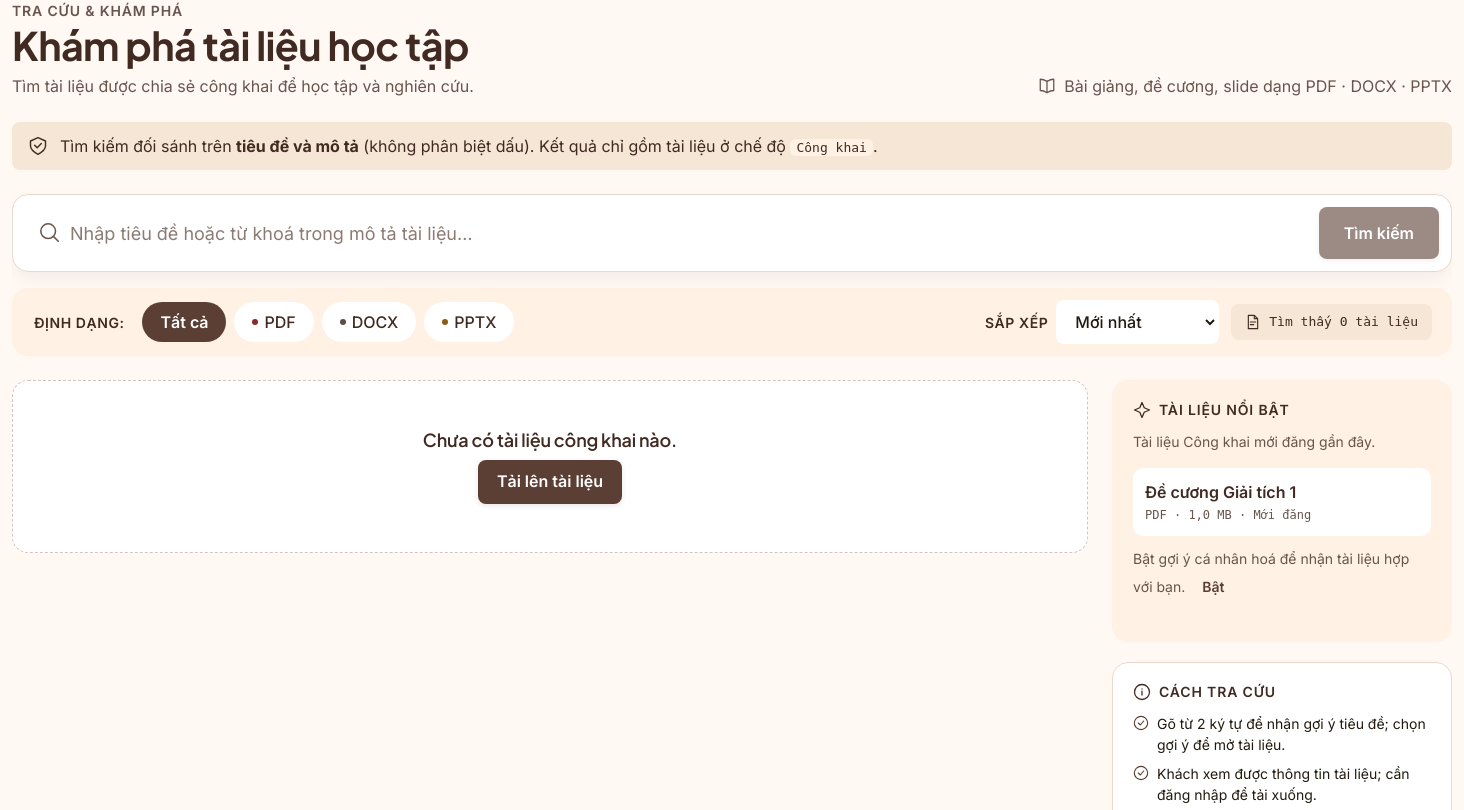
Test case: recommendation home privacy controls › keeps the current setting and recommendations when saving or clearing history fails
What coordinates should you click on to do the following:
click the button "Bật"
I would click on:
 (1213, 587)
Its box is top-left (1189, 569), bottom-right (1237, 605).
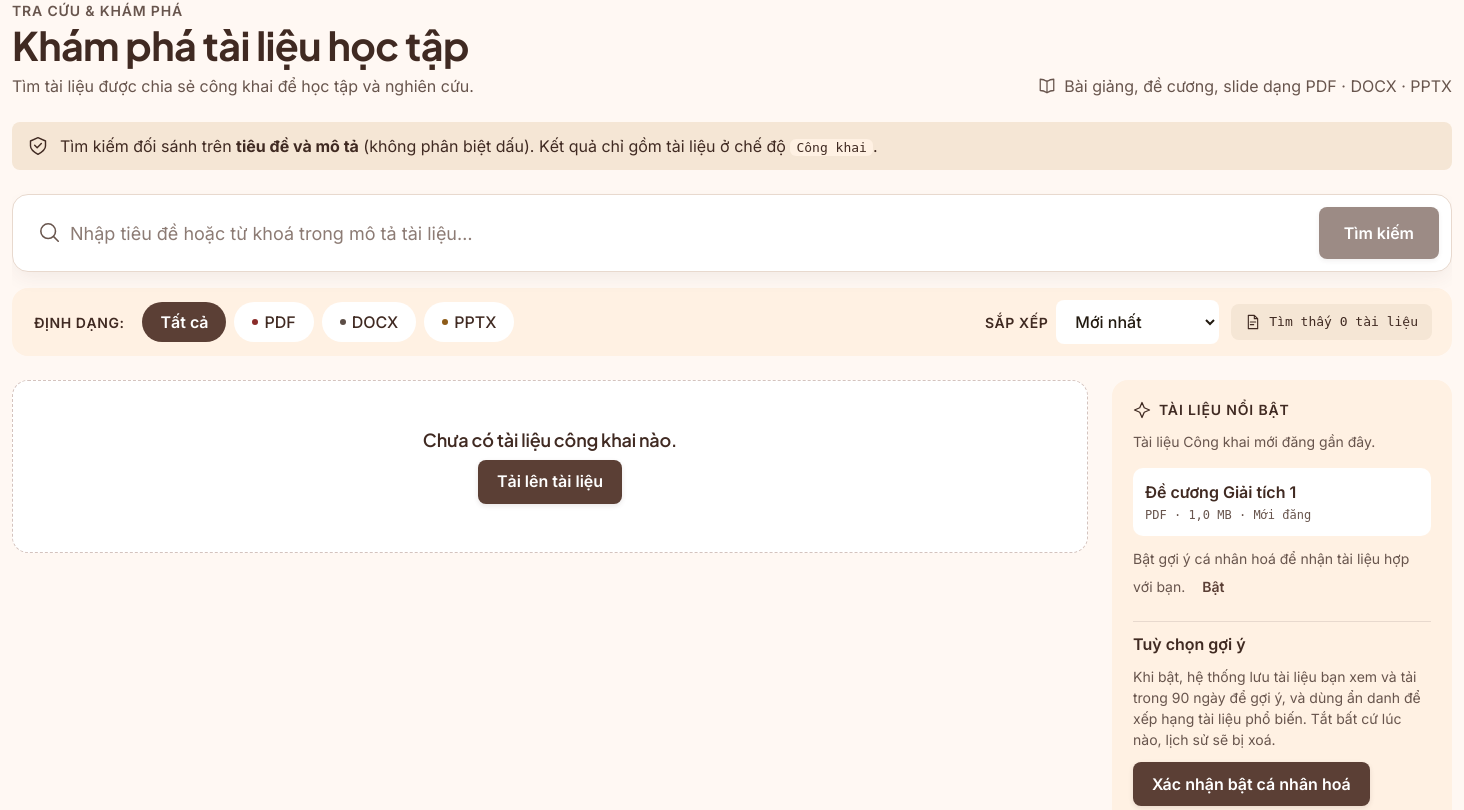
What coordinates should you click on to do the following:
click the switch
I would click on:
 (1251, 784)
Its box is top-left (1133, 762), bottom-right (1370, 806).
(page scrolled)
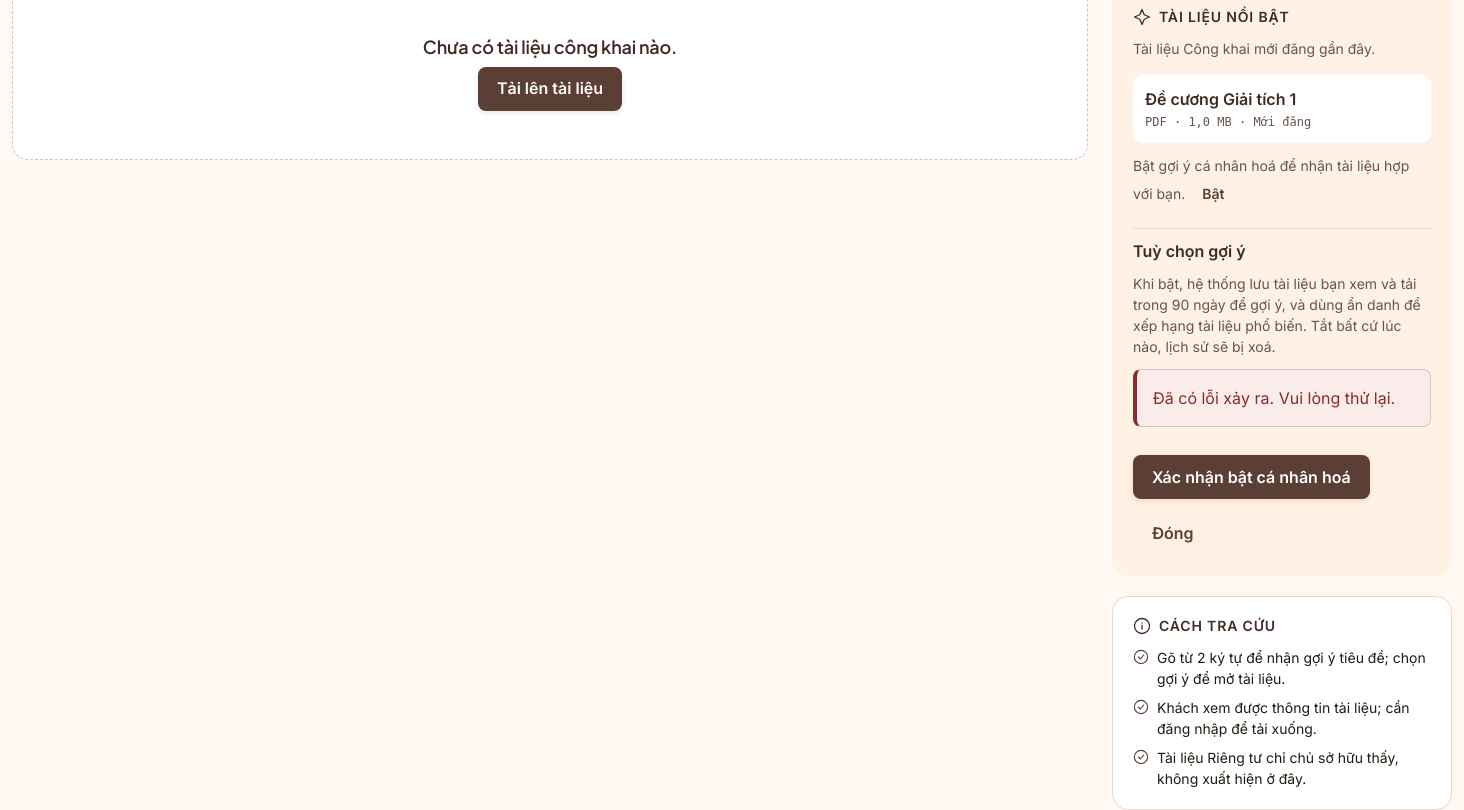
Result: the message "Đã có lỗi xảy ra. Vui lòng thử lại." is shown at top-left (1133, 369), bottom-right (1431, 427)
What coordinates should you click on to do the following:
click the switch
I would click on:
 (1251, 477)
Its box is top-left (1133, 455), bottom-right (1370, 499).
(page scrolled)
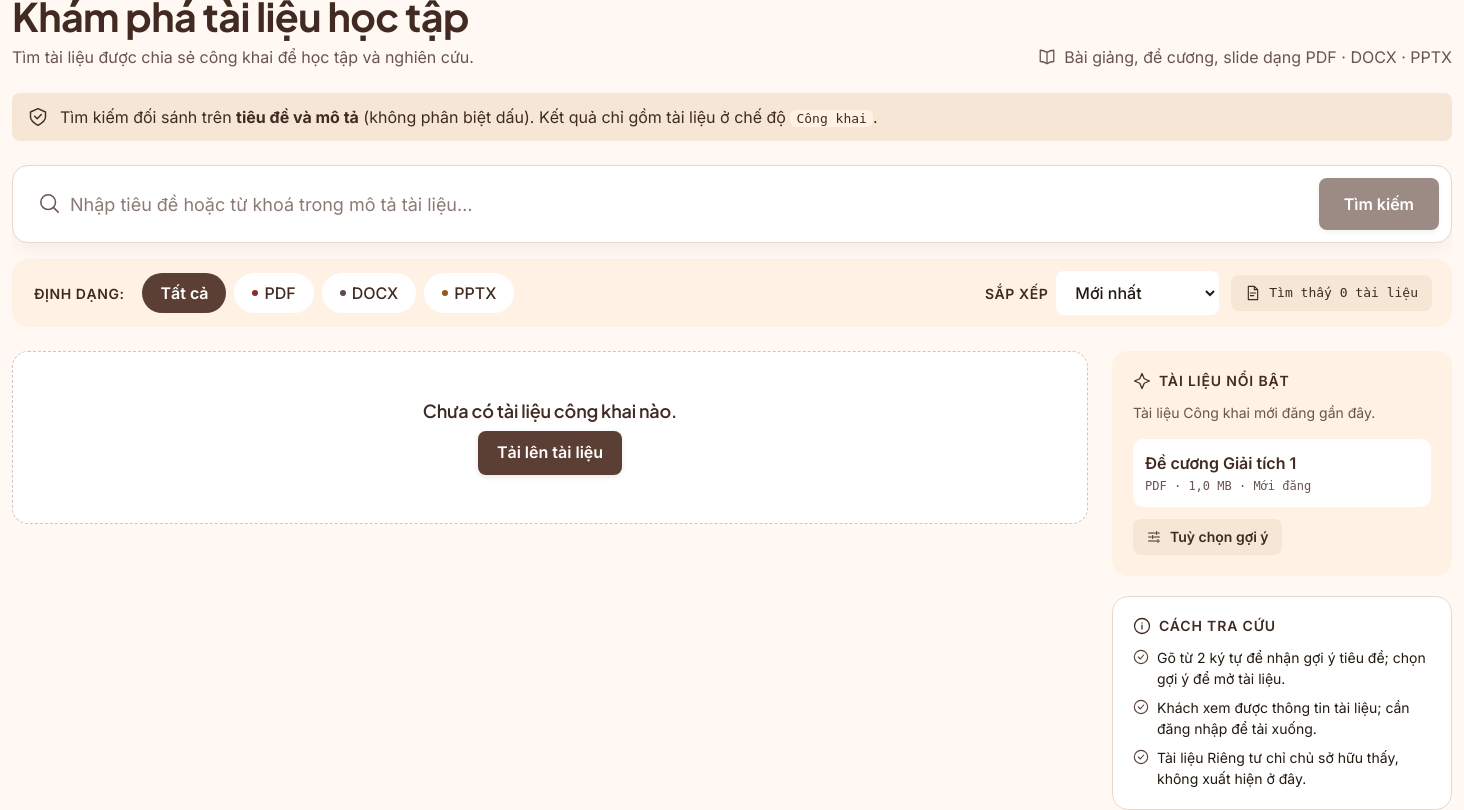
What coordinates should you click on to do the following:
click the button "Tuỳ chọn gợi ý"
I would click on:
 (1207, 537)
Its box is top-left (1133, 519), bottom-right (1282, 555).
(page scrolled)
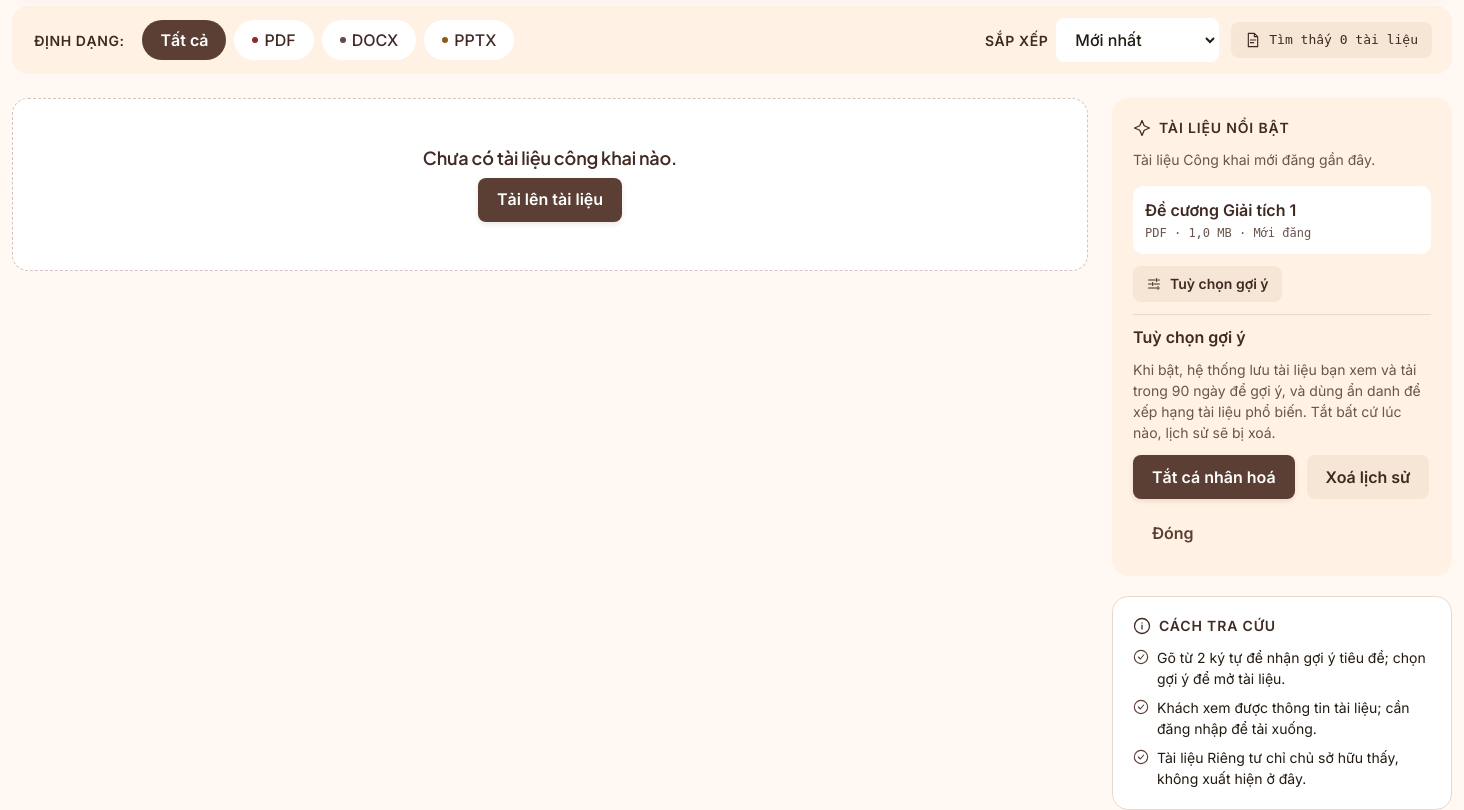
What coordinates should you click on to do the following:
click the button "Xoá lịch sử"
I would click on:
 (1368, 477)
Its box is top-left (1307, 455), bottom-right (1429, 499).
(page scrolled)
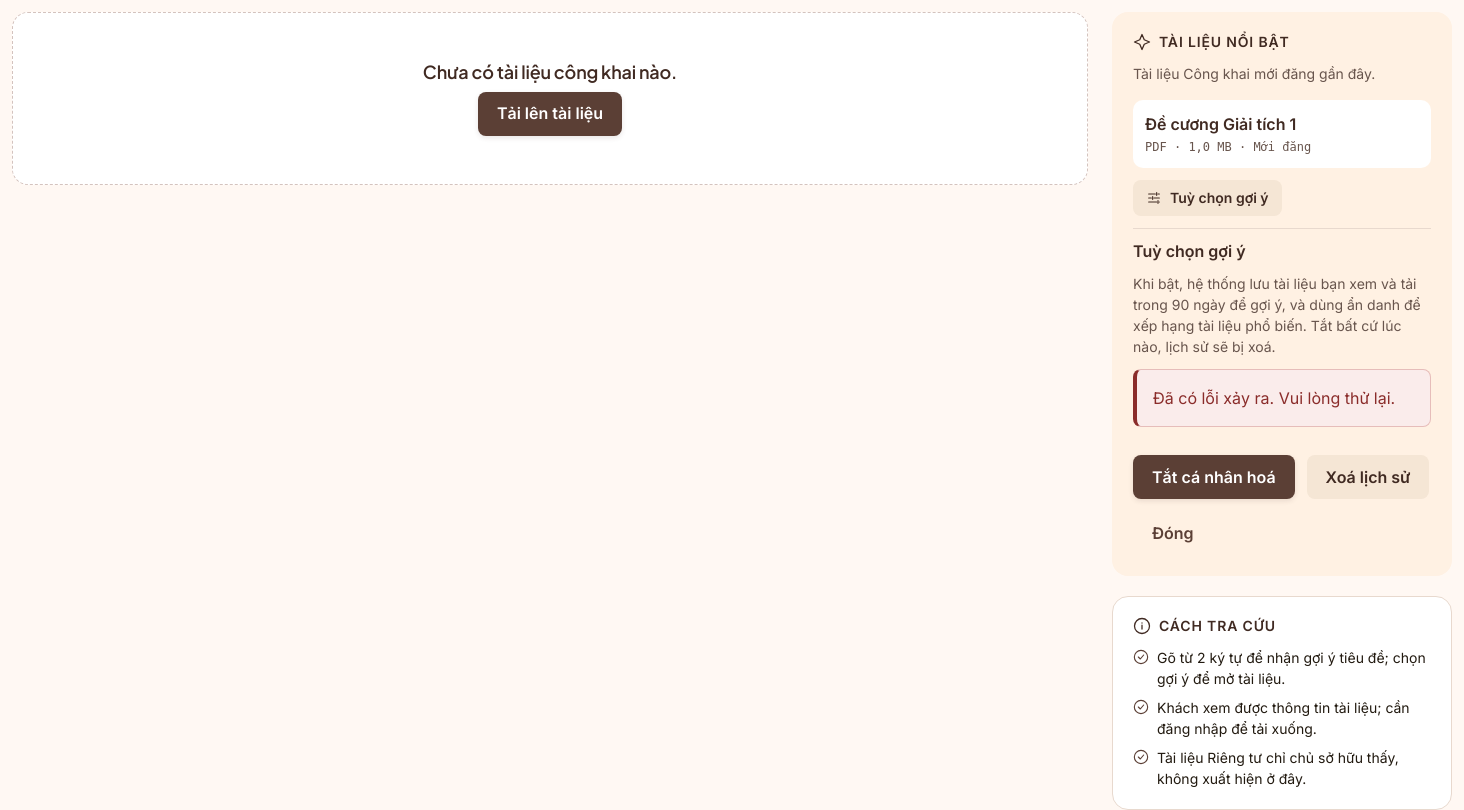
Expected: the heading "Tài liệu nổi bật" is shown, top-left (1133, 33), bottom-right (1290, 51)
Result: the message "Đã có lỗi xảy ra. Vui lòng thử lại." is shown at top-left (1133, 369), bottom-right (1431, 427)
